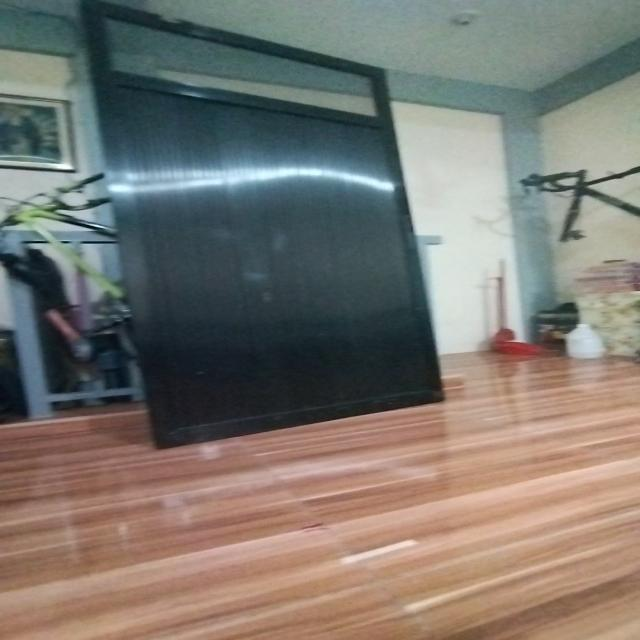door: (87, 14, 441, 449)
